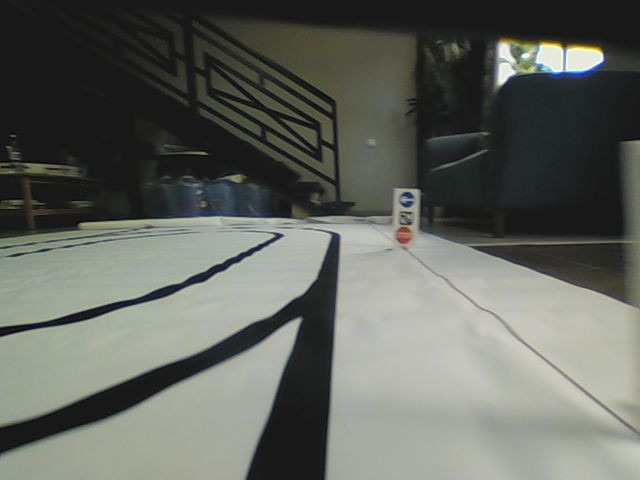Stop: (394, 226, 412, 244)
